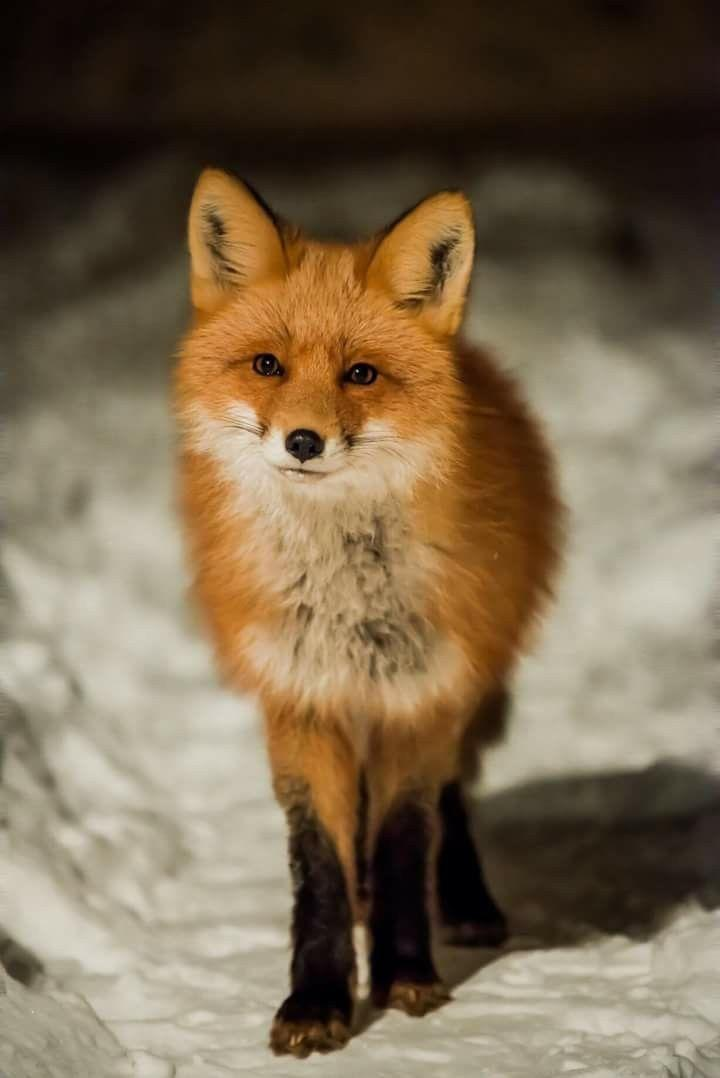fox: (155, 153, 568, 1073)
